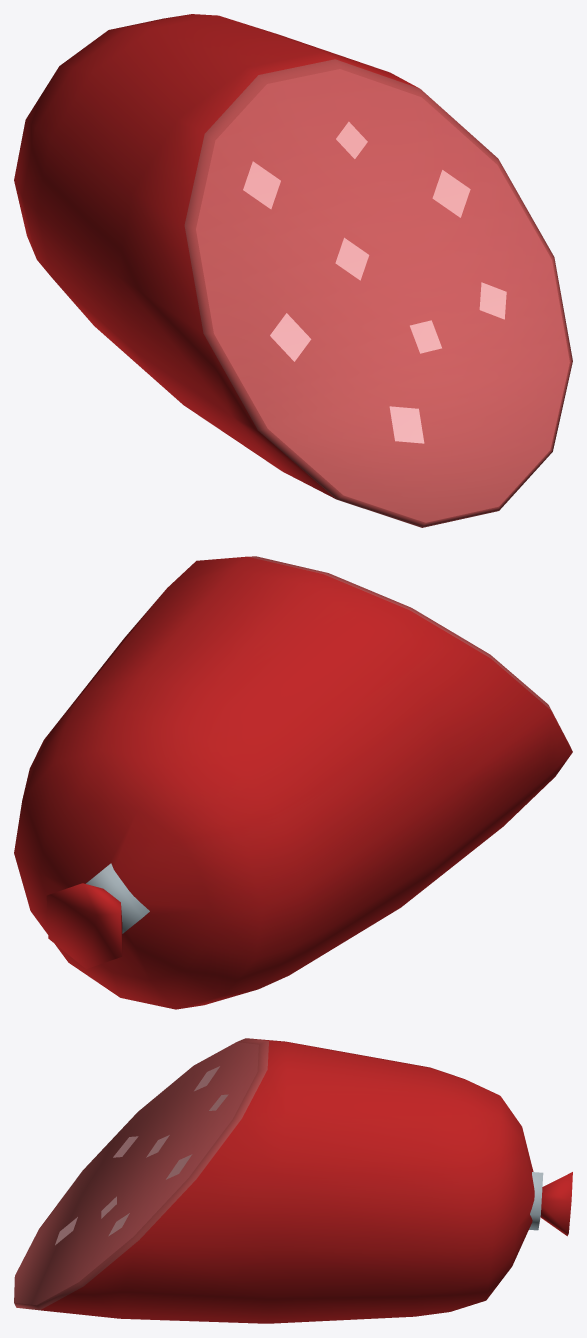
File: sasuage_004.fbx
3 views of the same model, one above another, from view 1: azimuth 30°, elevation 25°; view 2: azimuth 150°, elevation 25°; view 3: azimuth 270°, elevation 25° (orthographic). The views are drawn at different scales.
Visible parts, largest first — view 1: sasuage_004; view 2: sasuage_004; view 3: sasuage_004.
Boxes of the visible parts, x1,y1,x2,y2 form: sasuage_004: (14,14,572,527); sasuage_004: (14,556,572,1009); sasuage_004: (14,1038,572,1323).
Bounding box in the file's own units: 6.37 × 12.01 × 6.11.
